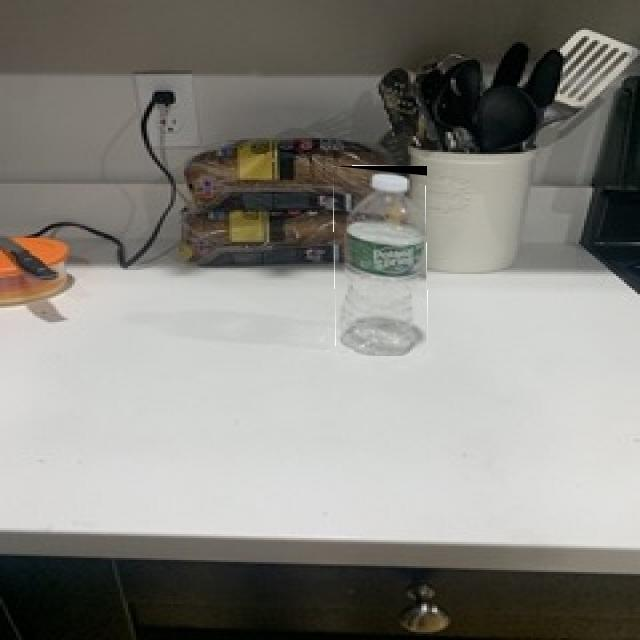water_bottle: (334, 166, 427, 356)
